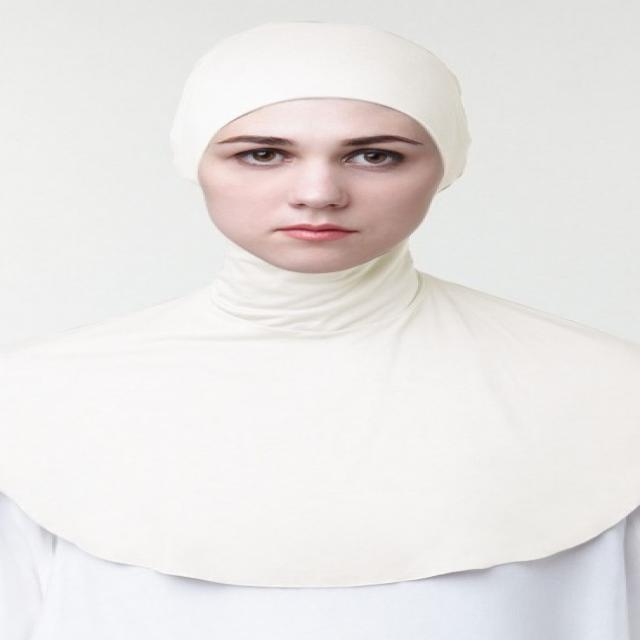head: (153, 16, 475, 283)
